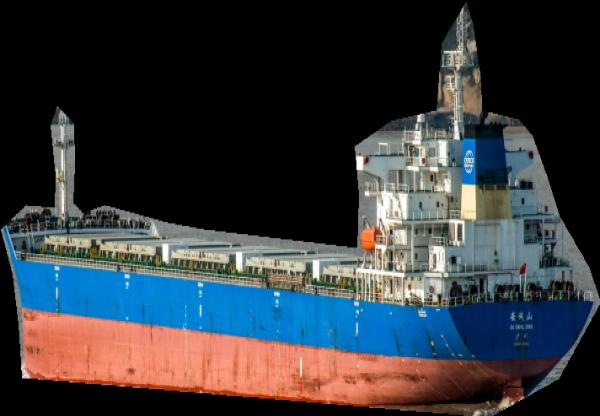Bulkers: (1, 1, 600, 416)
